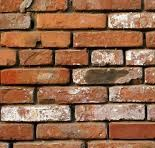brick: (1, 68, 71, 86), (35, 13, 107, 30), (73, 105, 146, 121), (36, 124, 107, 140), (73, 32, 143, 48), (36, 88, 108, 103), (72, 69, 143, 84), (1, 32, 71, 47), (1, 106, 71, 120), (109, 122, 155, 139), (107, 13, 155, 29), (1, 1, 69, 12), (108, 87, 155, 102), (73, 1, 142, 11), (1, 123, 35, 141), (1, 13, 32, 31), (54, 50, 88, 66), (1, 88, 35, 104), (87, 140, 154, 148), (90, 49, 123, 65), (18, 50, 52, 65), (125, 50, 155, 65), (12, 141, 84, 147), (1, 49, 18, 65), (144, 69, 155, 84), (145, 32, 155, 48), (147, 105, 155, 120), (144, 1, 155, 11), (1, 141, 10, 148)
